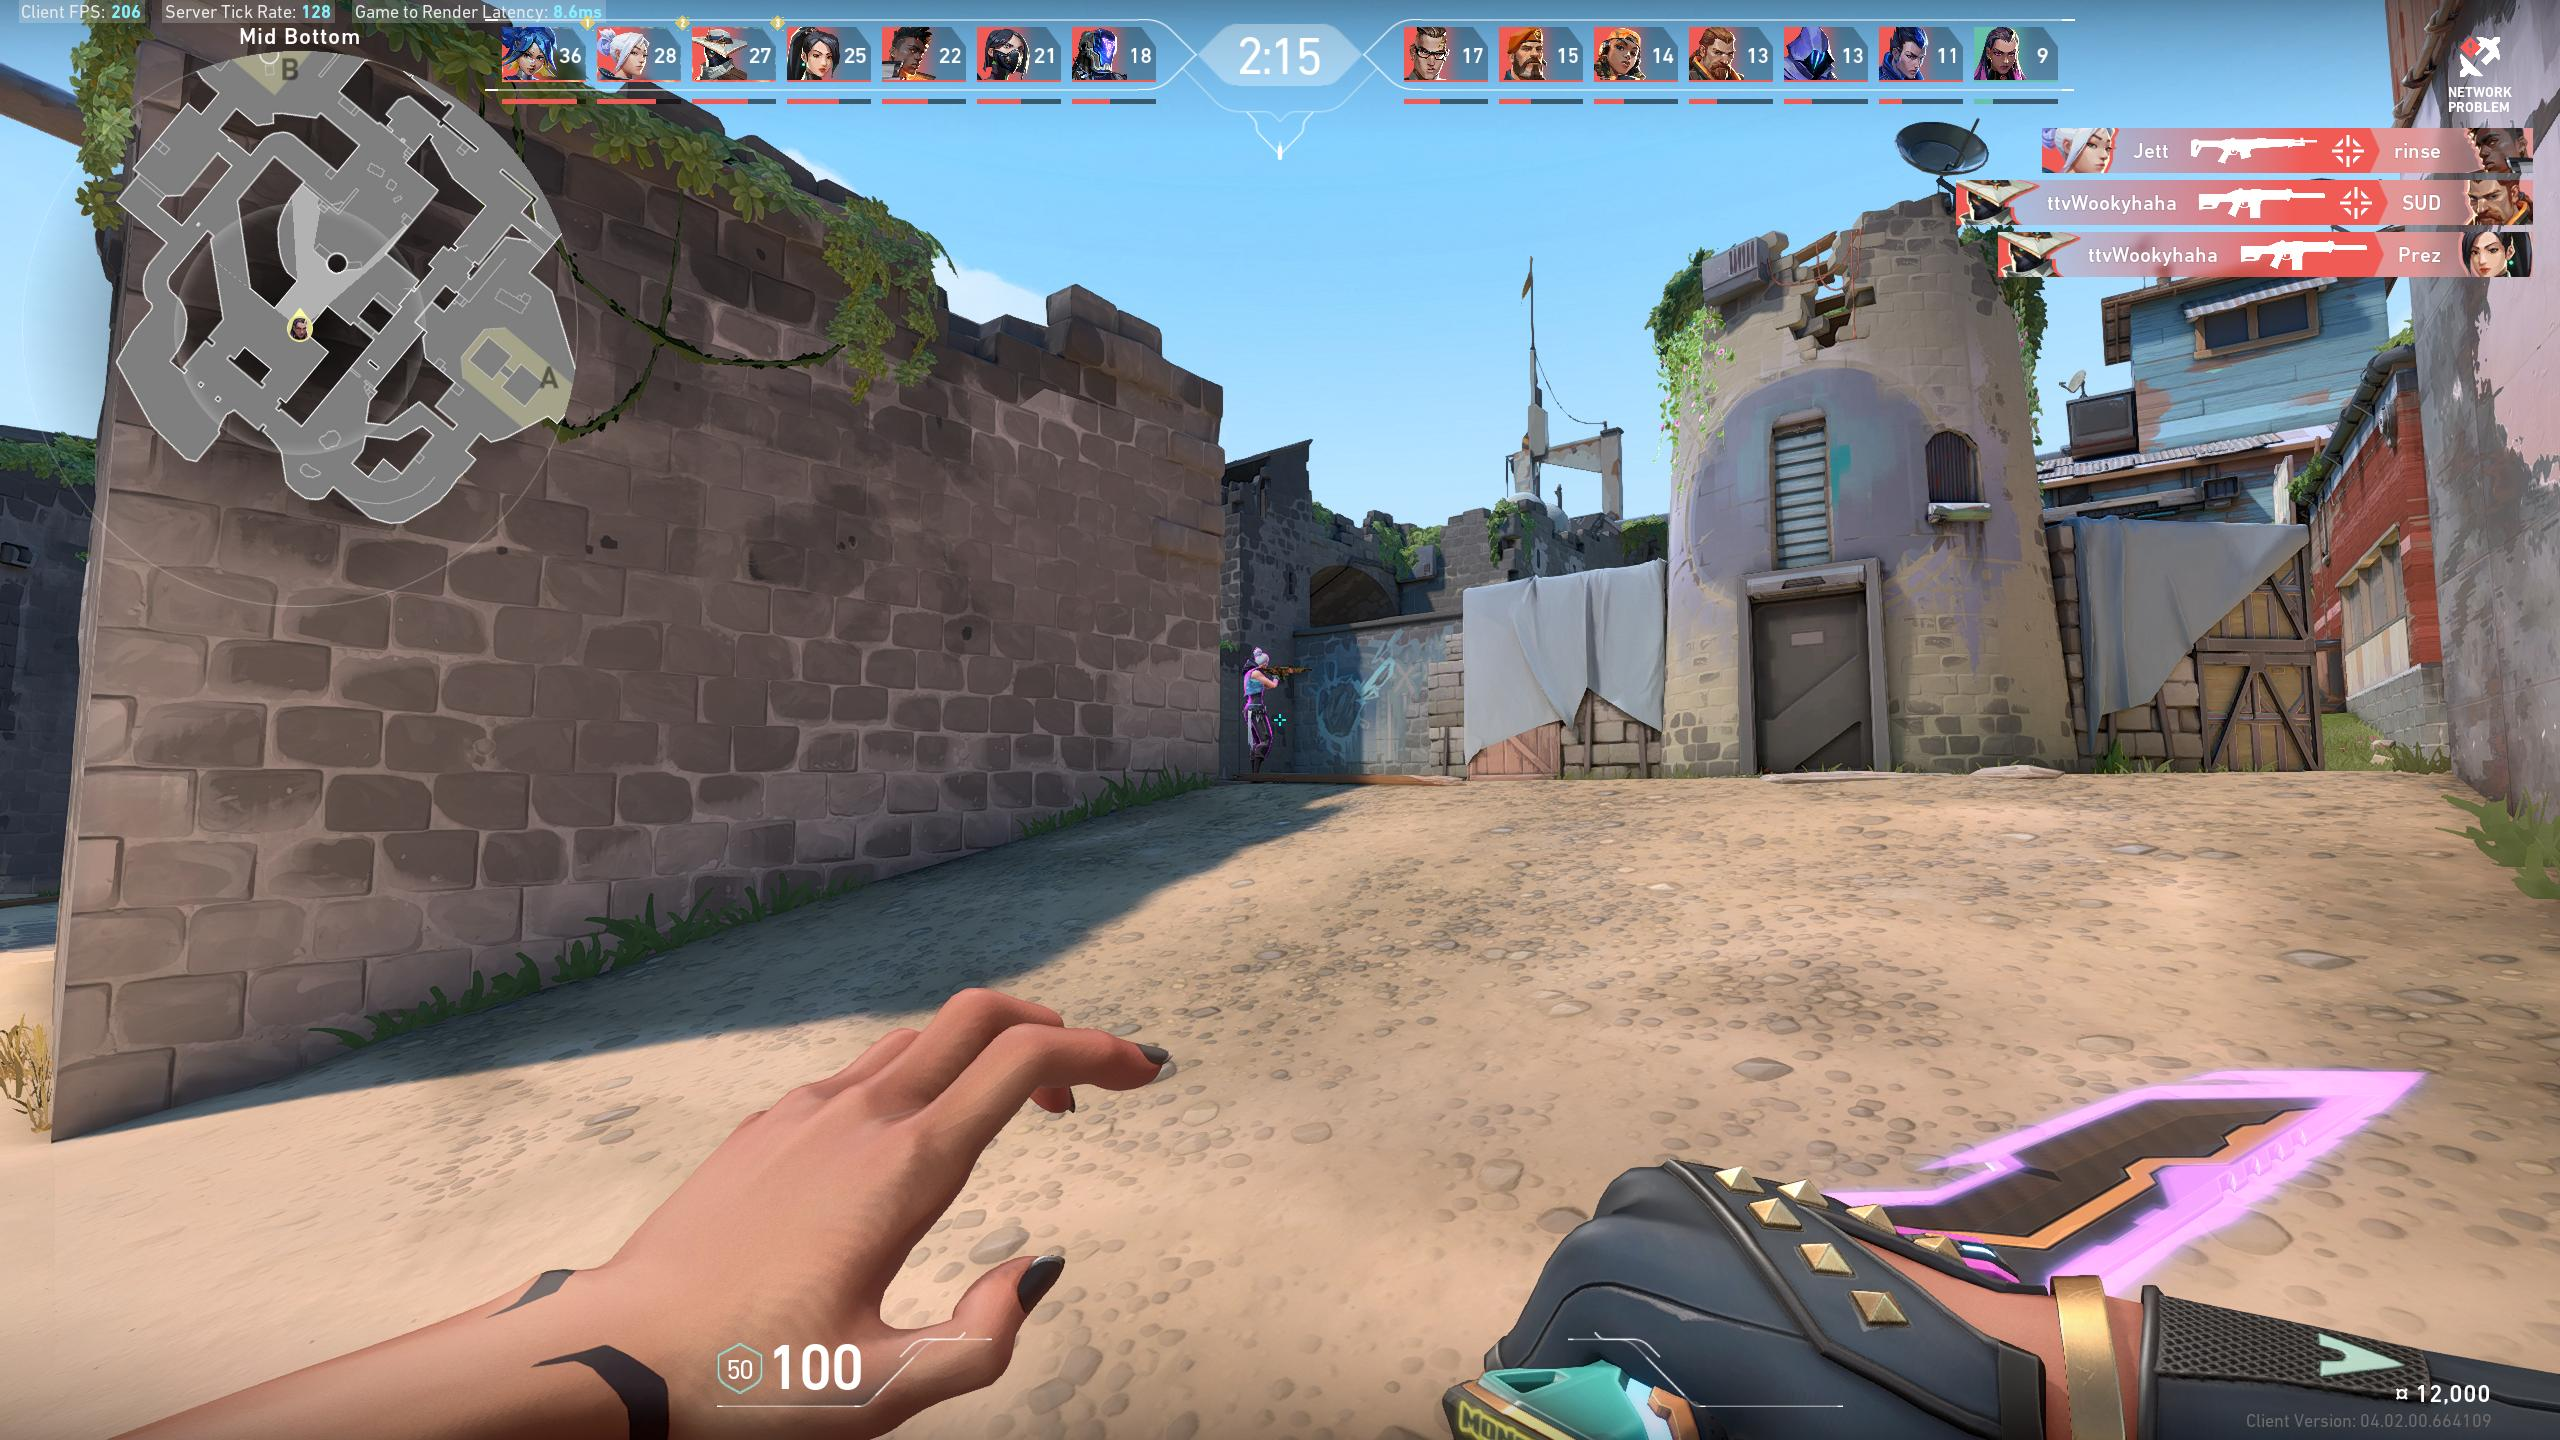enemyBody: (1247, 673, 1261, 705)
enemyHead: (1255, 654, 1266, 668)
